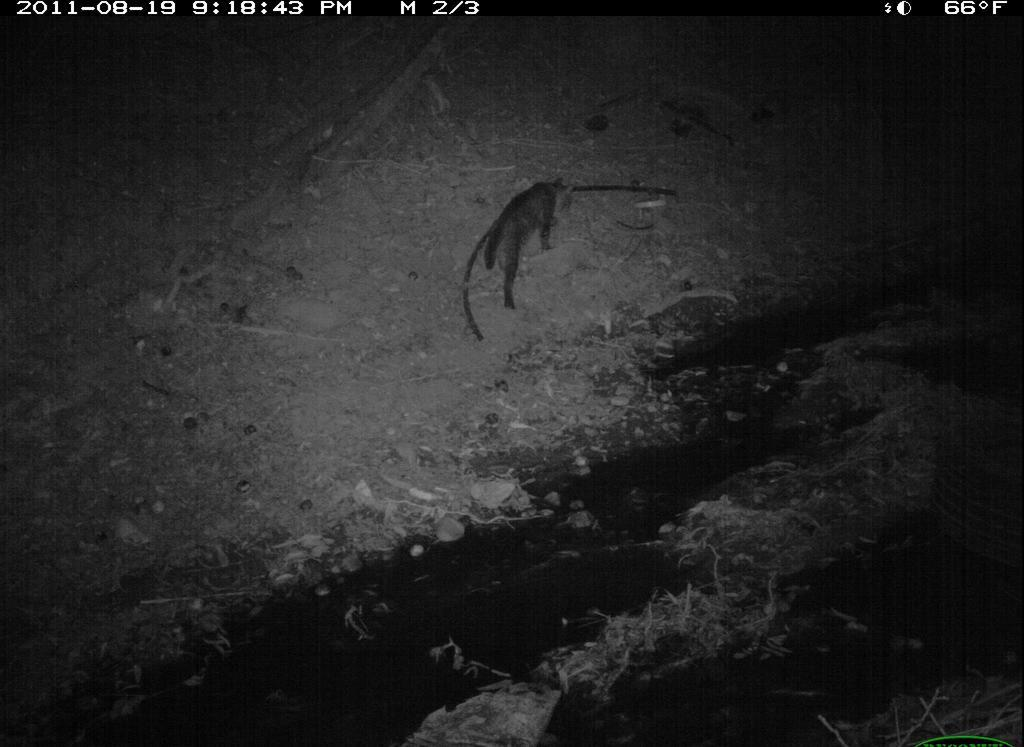cat: (479, 172, 578, 315)
